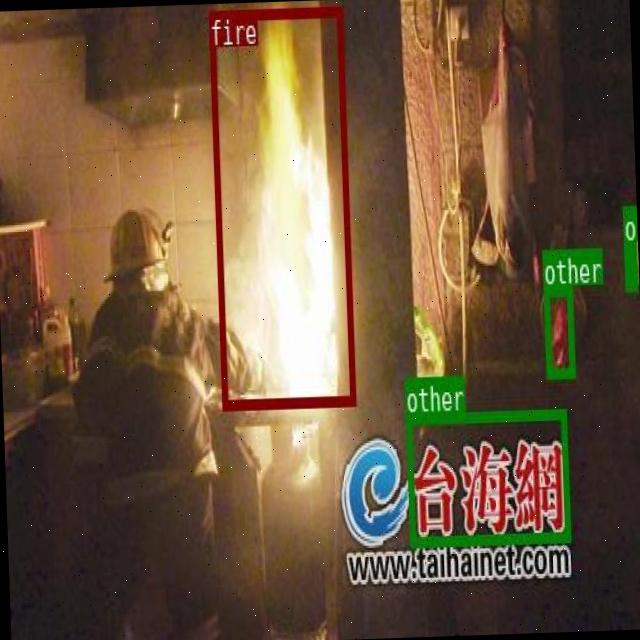fire: (207, 6, 354, 406)
